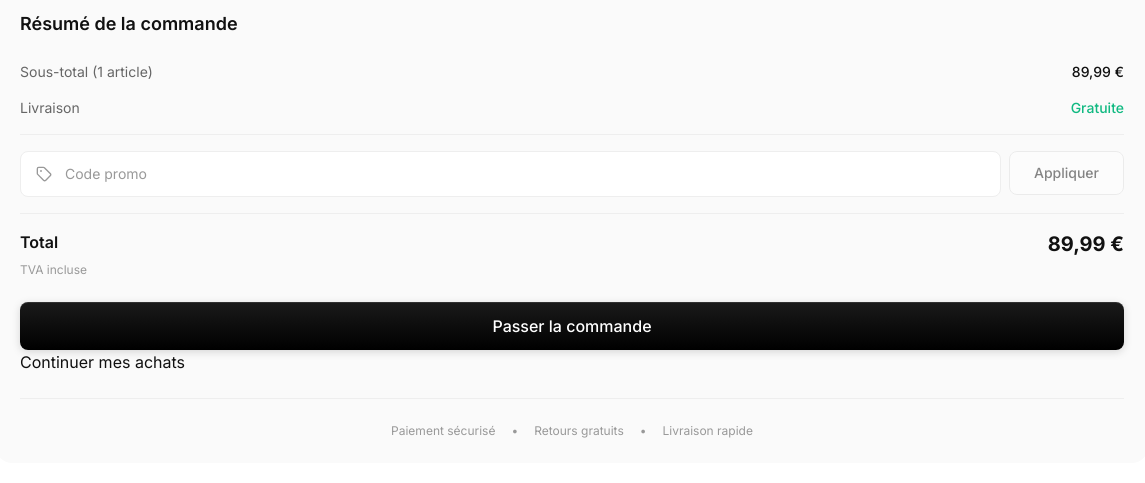
CartSummary › Promo Code › should show error for invalid promo code
The width and height of the screenshot is (1145, 483).
In the field with placeholder "Code promo": (510, 174) [20,151,1001,197], type "INVALID"
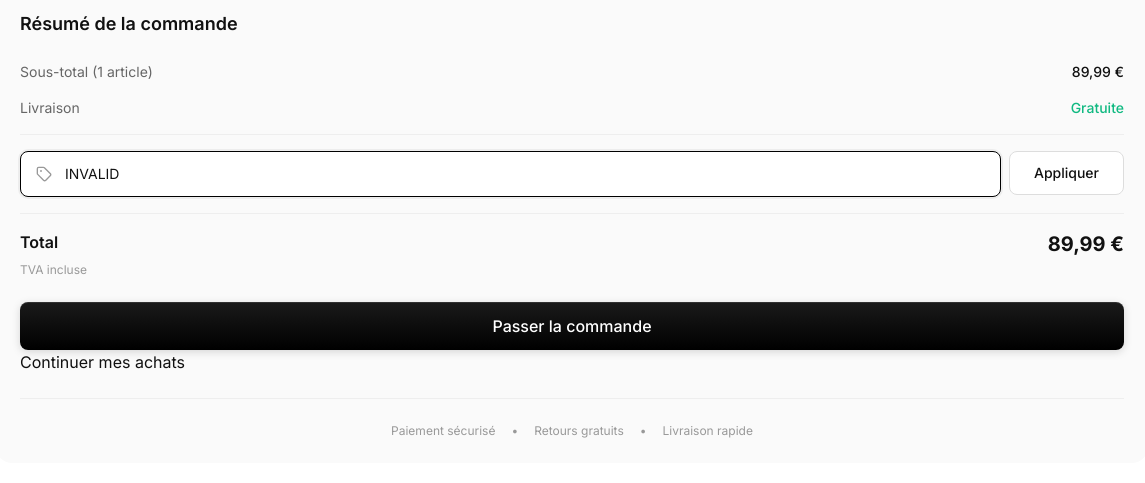
Click the button "Appliquer": click(1066, 173) [1009,151,1124,195]
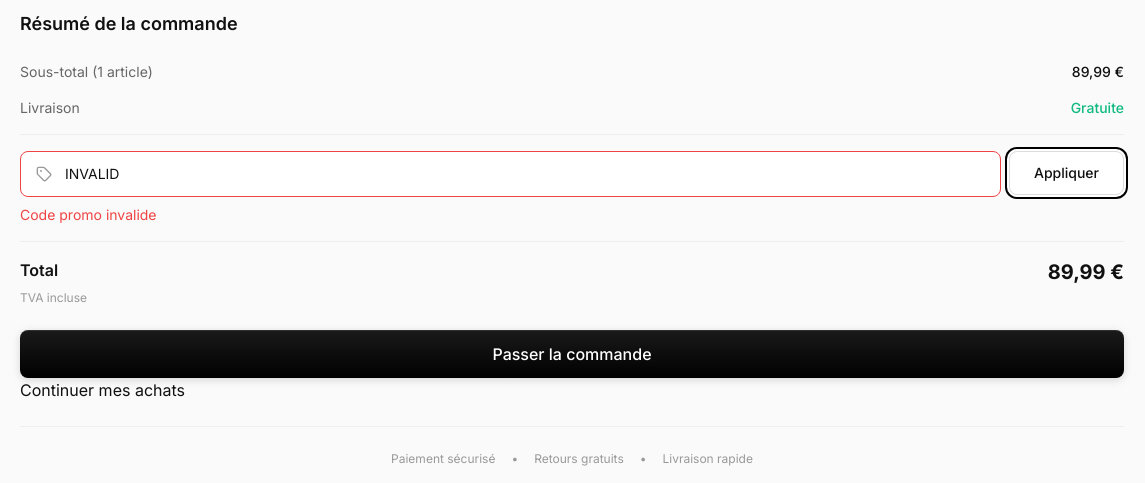
Expected: the text "Code promo invalide" is shown, [20,206,156,223]
